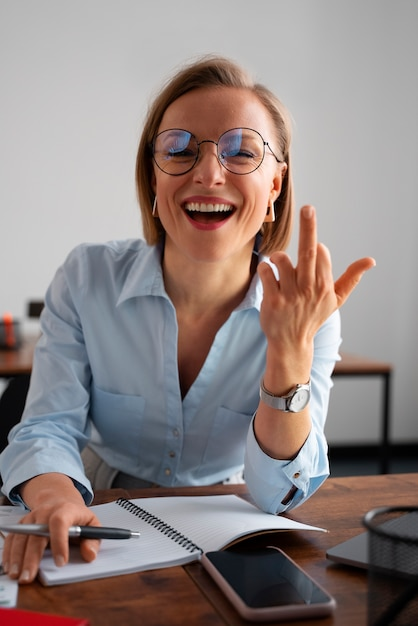insulting_gesture: (250, 199, 381, 348)
